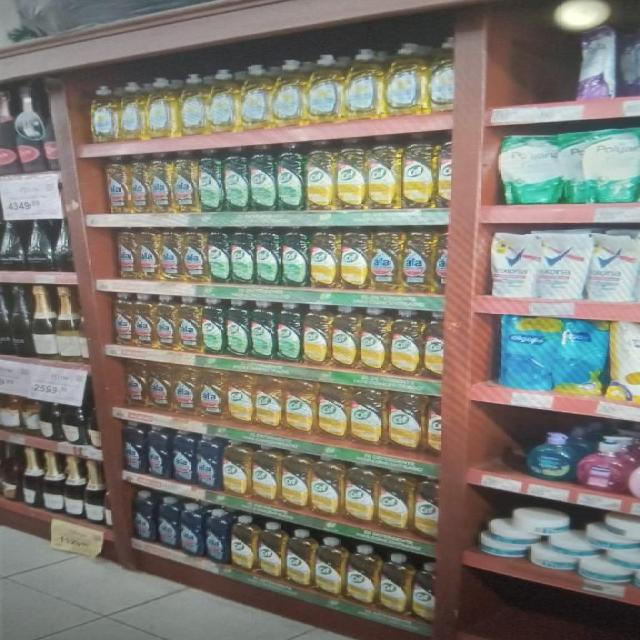ala_conc_amarillo: (402, 229, 433, 294), (370, 229, 400, 293), (173, 150, 197, 213), (105, 154, 128, 214), (199, 368, 225, 420), (183, 226, 206, 284), (150, 152, 171, 214), (173, 364, 197, 418), (178, 296, 200, 353), (160, 226, 182, 282), (115, 226, 137, 281), (148, 362, 172, 412), (155, 295, 176, 351), (138, 226, 159, 281), (111, 292, 132, 347), (124, 360, 147, 409), (130, 153, 148, 214), (134, 294, 154, 348)
ala_conc_azul: (196, 433, 221, 491), (172, 427, 195, 485), (147, 424, 171, 478), (205, 508, 228, 564), (122, 421, 146, 474), (180, 502, 203, 557), (158, 495, 178, 550)
cif_conc_bot_amarilla: (402, 138, 434, 210), (387, 390, 424, 451), (368, 140, 400, 210), (390, 309, 422, 377), (336, 141, 366, 211), (378, 552, 411, 615), (377, 471, 411, 532), (310, 454, 342, 517), (350, 386, 384, 445), (359, 307, 388, 373), (306, 143, 334, 211), (344, 463, 375, 524), (346, 544, 376, 605), (314, 536, 344, 596), (310, 228, 339, 290), (340, 229, 369, 291), (317, 382, 348, 440), (284, 379, 316, 435), (302, 303, 330, 366), (331, 305, 358, 370), (281, 449, 309, 511), (413, 476, 440, 540), (252, 444, 280, 504), (286, 528, 314, 588), (222, 439, 250, 497), (255, 374, 283, 430), (258, 520, 284, 578), (227, 372, 254, 426), (424, 310, 444, 380), (231, 515, 256, 571), (436, 138, 454, 208), (426, 394, 442, 456)
cif_conc_botella_verde: (277, 143, 304, 211), (250, 146, 276, 212), (198, 148, 223, 213), (282, 228, 308, 288), (224, 147, 248, 212), (225, 298, 249, 358), (251, 300, 275, 360), (277, 302, 301, 362), (256, 227, 280, 286), (230, 227, 254, 285), (202, 298, 224, 356), (208, 227, 230, 284)
magistral_con_amarillo: (386, 41, 426, 117), (345, 47, 384, 121), (306, 53, 343, 124), (272, 59, 304, 128), (428, 36, 456, 114), (240, 63, 270, 131), (208, 68, 238, 134), (146, 76, 177, 139), (89, 84, 118, 143), (180, 72, 206, 136), (119, 80, 144, 141)
